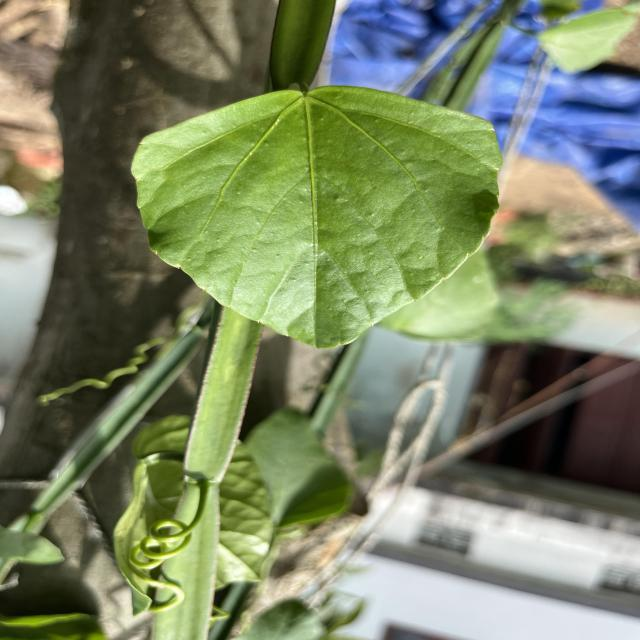Cissus quadrangularis: (124, 82, 507, 356)
